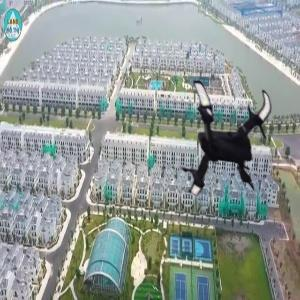drone: (153, 75, 294, 216)
